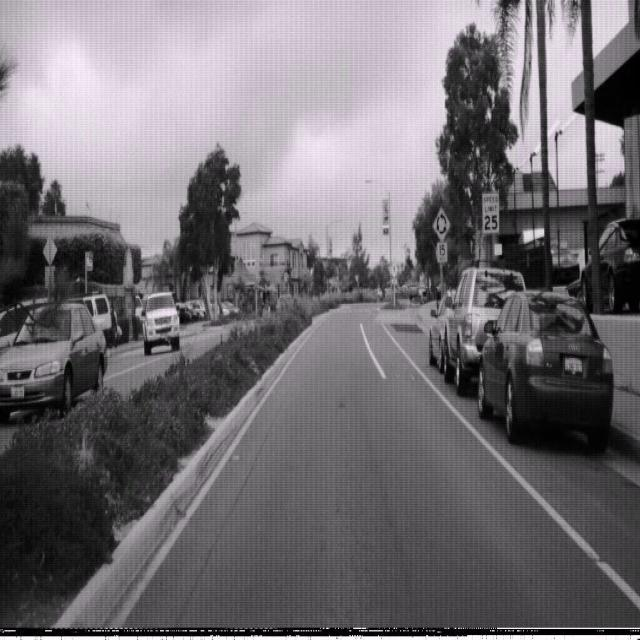speedLimit25: (481, 190, 500, 235)
